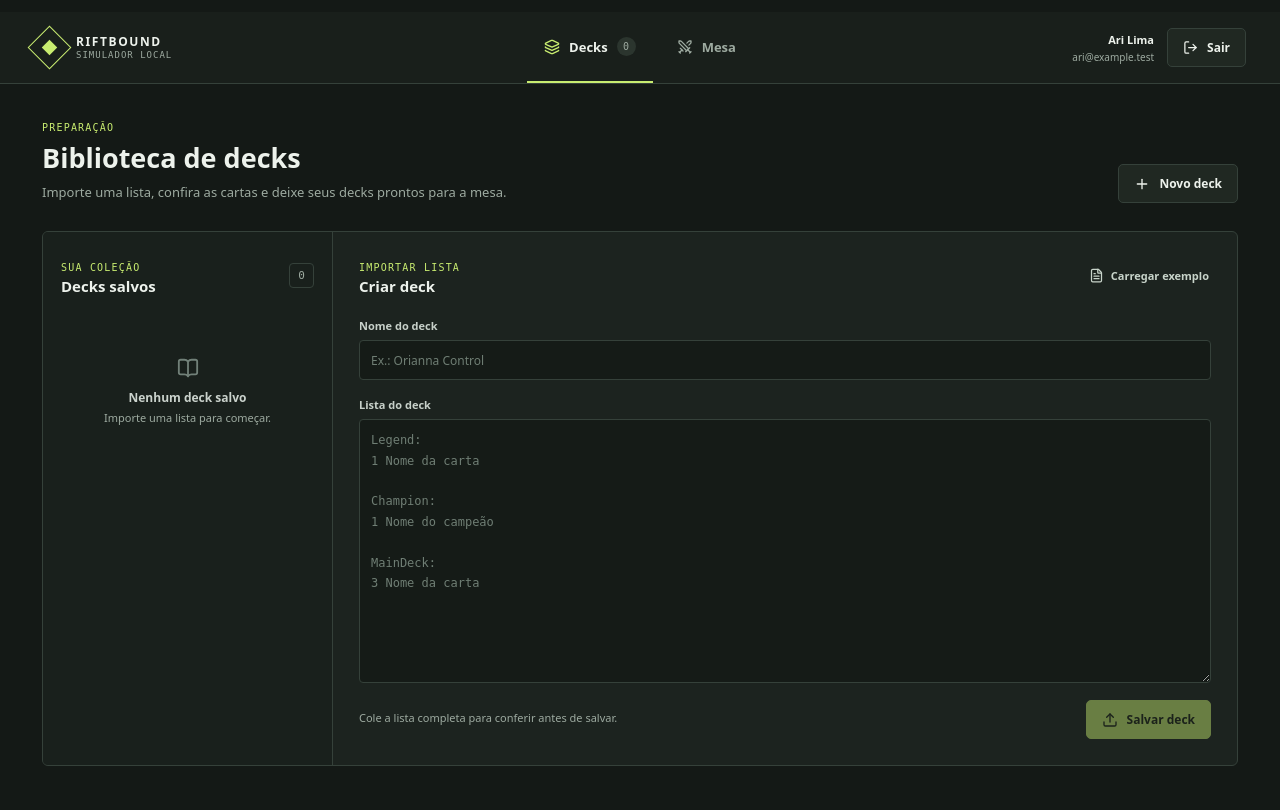
Test: authenticated simulator app › creates and renders a deck using the server-returned id
Click the button "Carregar exemplo": [1149, 275] box [1087, 261, 1211, 290]
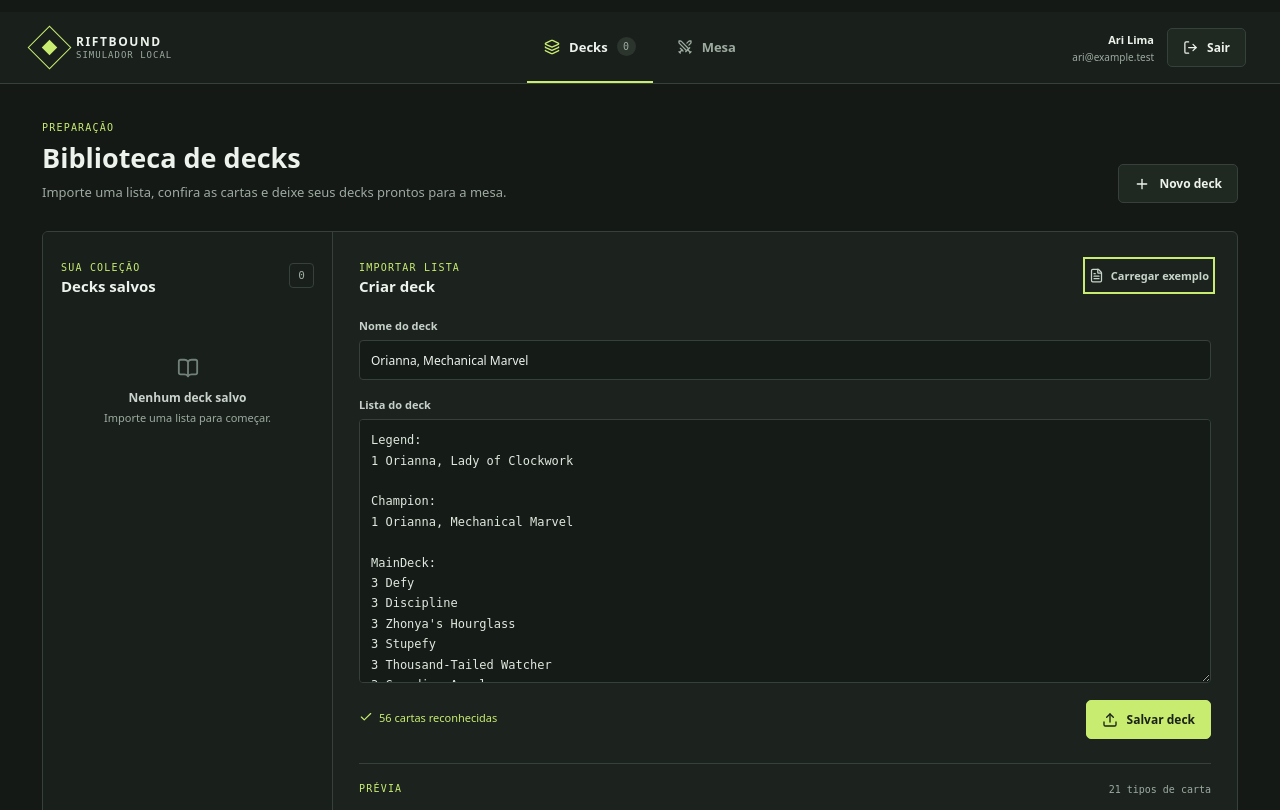
Click the button "Salvar deck": [1148, 720] box [1086, 700, 1211, 739]
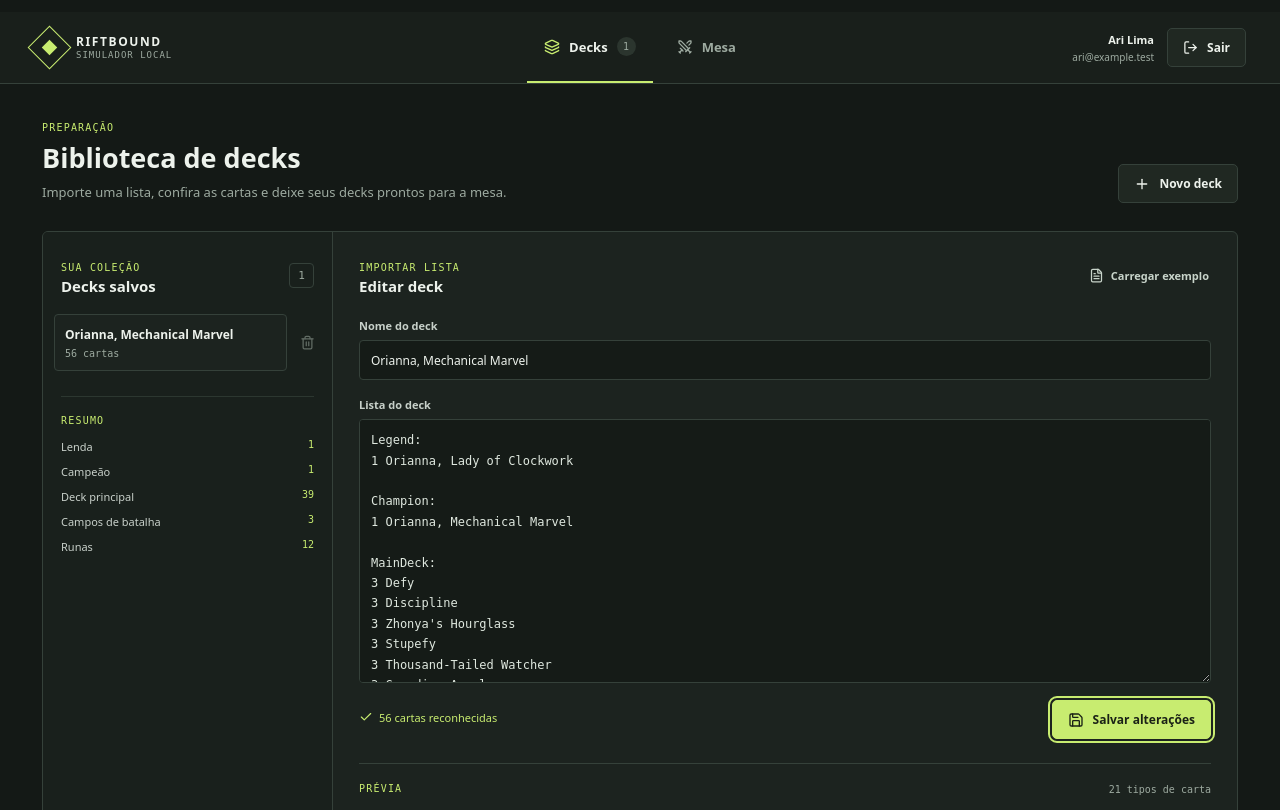
Expected: the button with aria-label "Selecionar deck Orianna, Mechanical Marvel" is shown, [54, 314, 287, 371]
